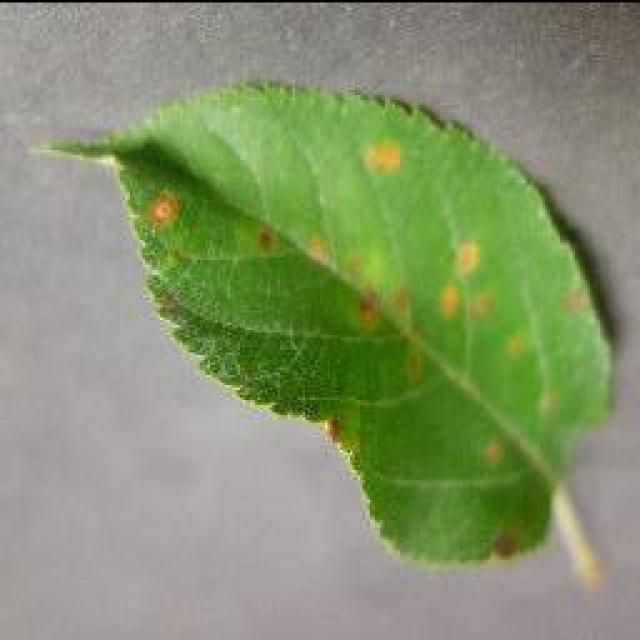apple cedar apple rust: (30, 78, 620, 580)
